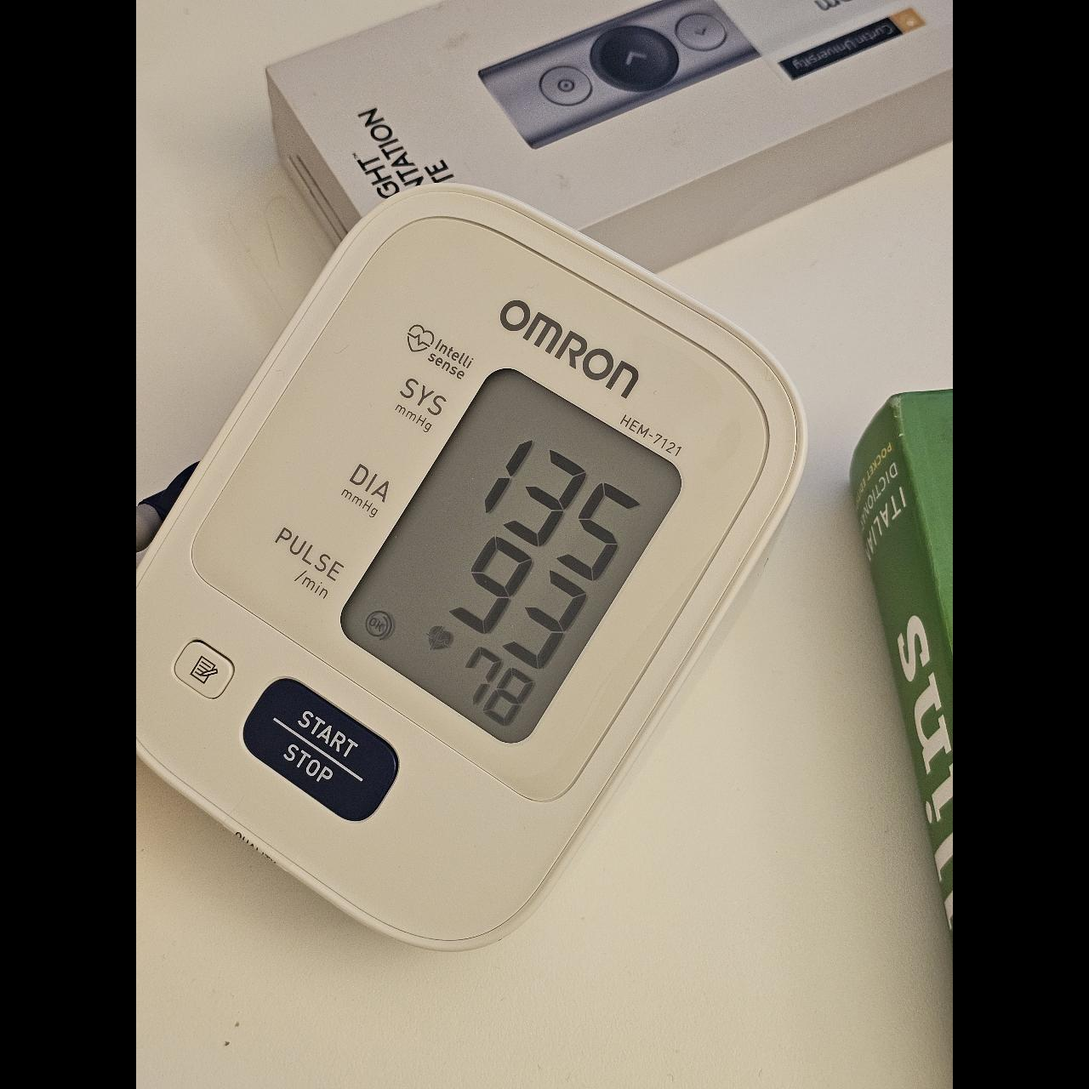blood pressure monitor: (136, 182, 813, 958)
